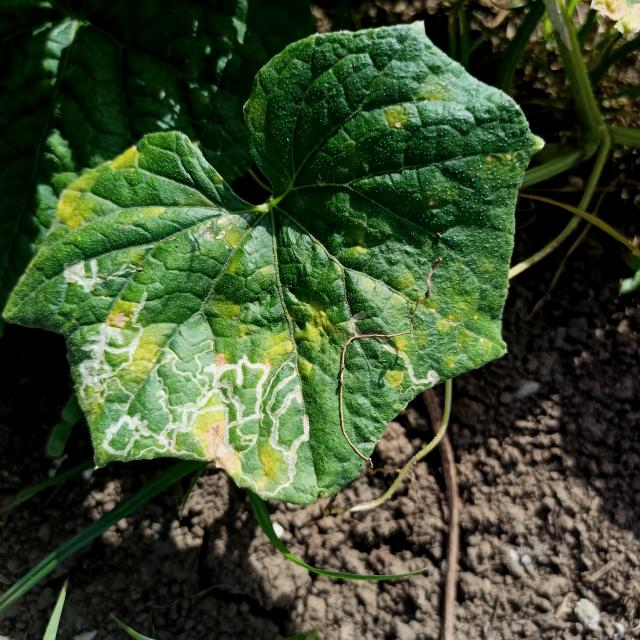disease_cucumber: (62, 232, 330, 486), (330, 245, 478, 389), (53, 140, 168, 234), (379, 79, 452, 139)
